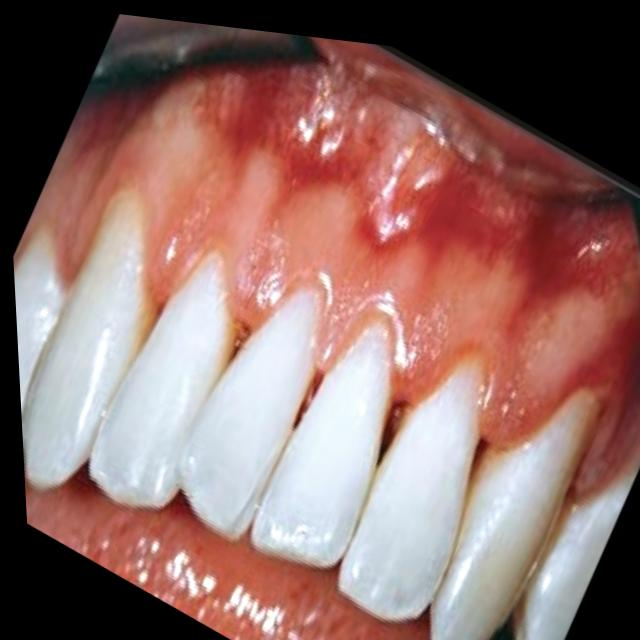gingivitis: (49, 67, 640, 506)
